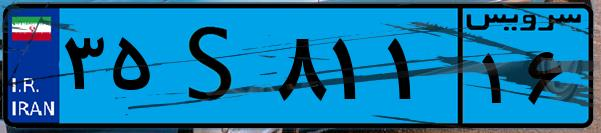1: (385, 28, 445, 110), (330, 28, 385, 110), (475, 38, 525, 113)
3: (57, 26, 110, 100)
5: (110, 28, 158, 98)
6: (525, 38, 570, 115)
8: (270, 28, 330, 110)
S: (158, 12, 270, 120)
